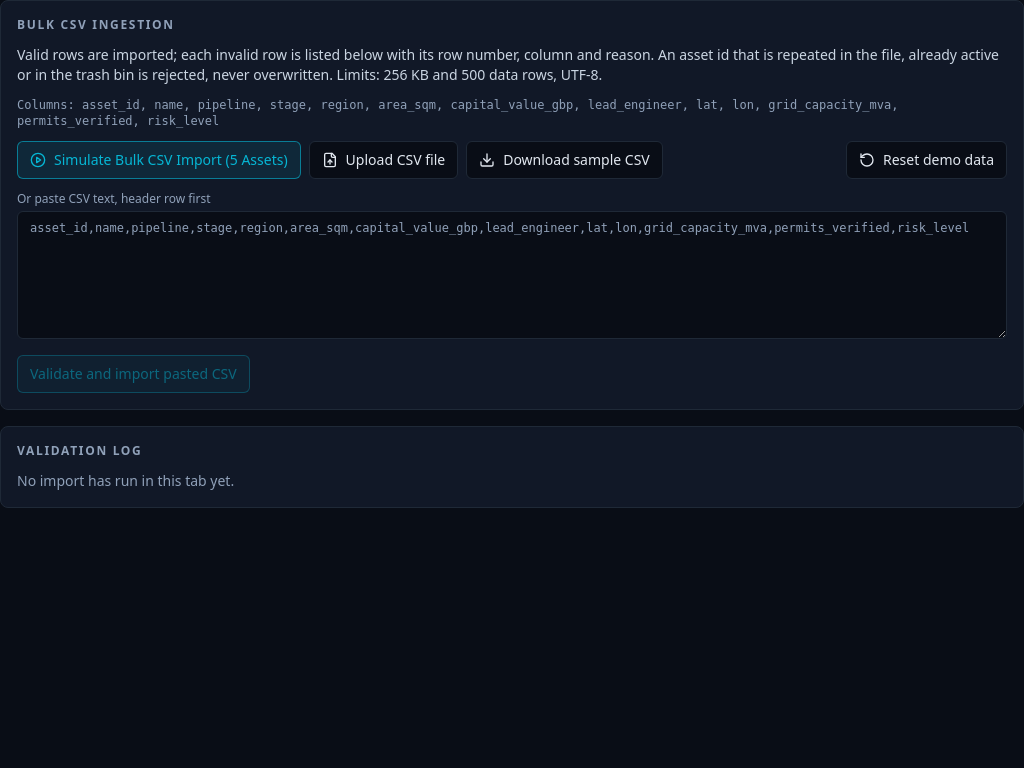
Scenario: IngestView › keeps earlier runs in the log, newest first, and clears it on reset
Click the button "Simulate Bulk CSV Import (5 Assets)" at point(159, 160), box [17,141,301,179]
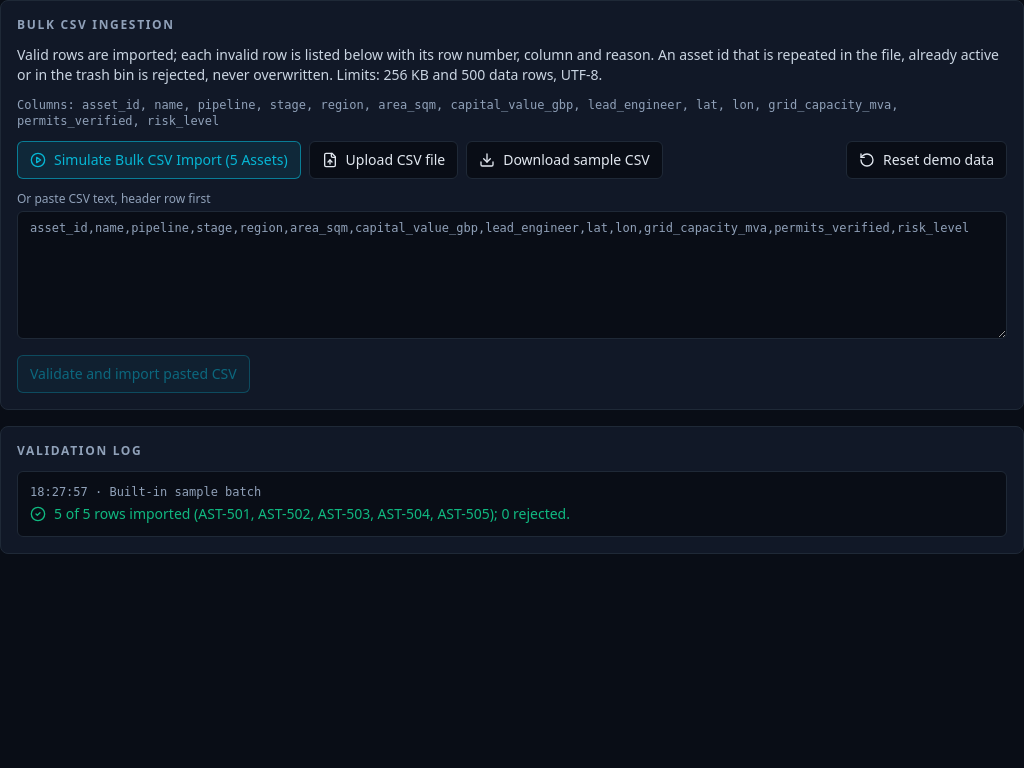
Result: the number of list items is 1 at [17,471,1007,537]
Replace the text in the text box labelled "Or paste CSV text, header row first" with "x" at point(512, 275), box [17,211,1007,339]
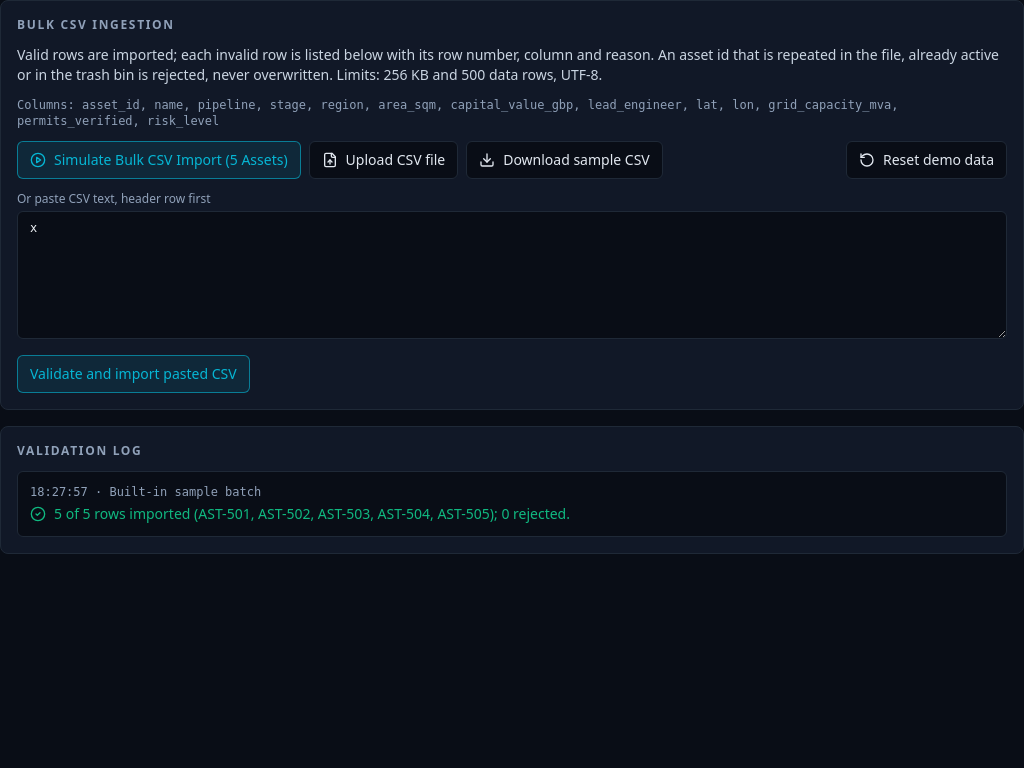
Click the button "Validate and import pasted CSV" at point(133, 374), box [17,355,250,393]
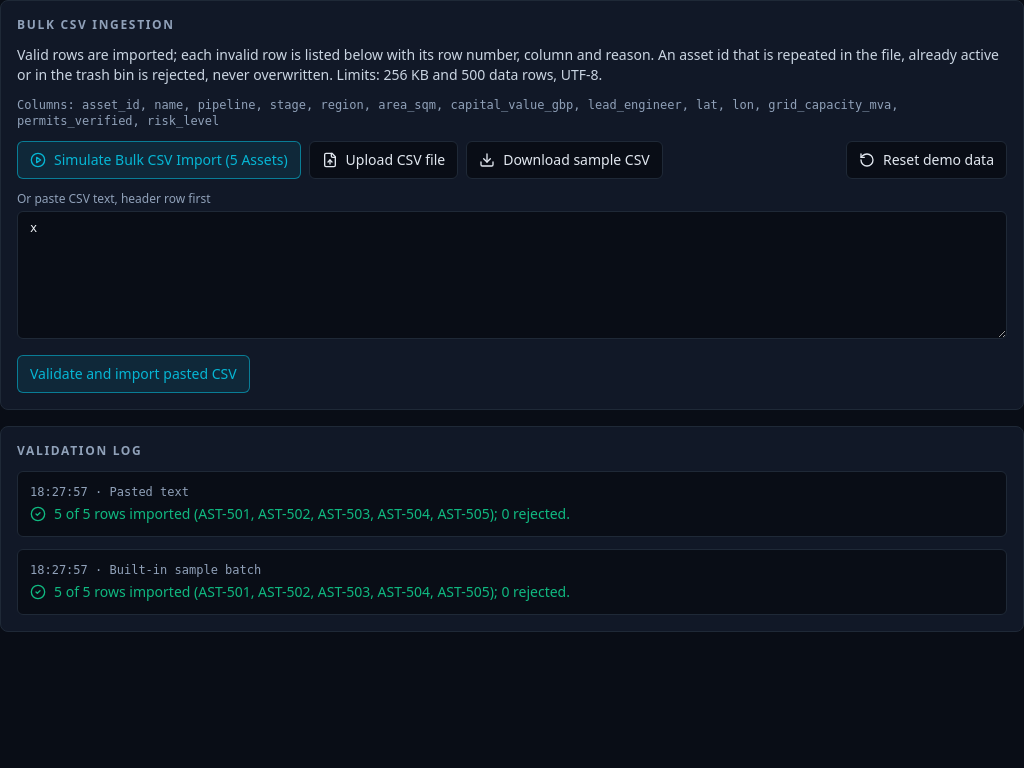
Result: the number of list items is 2 at [17,471,1007,537]; [17,549,1007,615]
Result: the list item that starts with "Pasted text" is shown at [110,485,189,499]
Click the button "Reset demo data" at point(926, 160), box [846,141,1007,179]
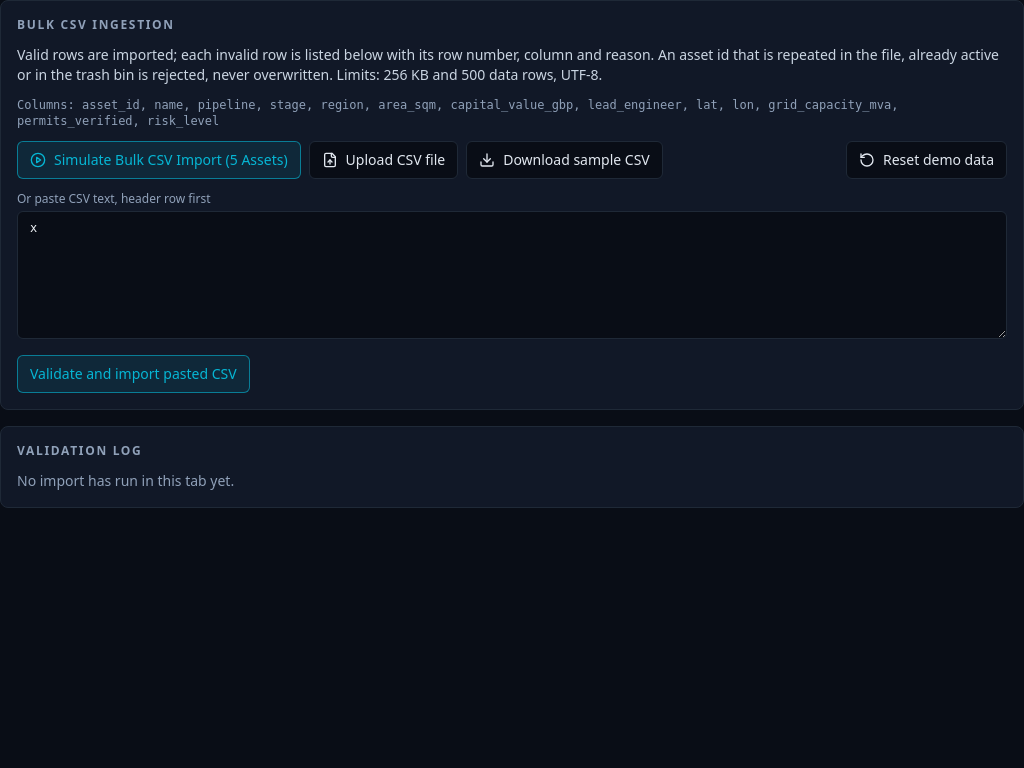
Result: the text "No import has run in this tab yet." is shown at [17,471,234,490]
